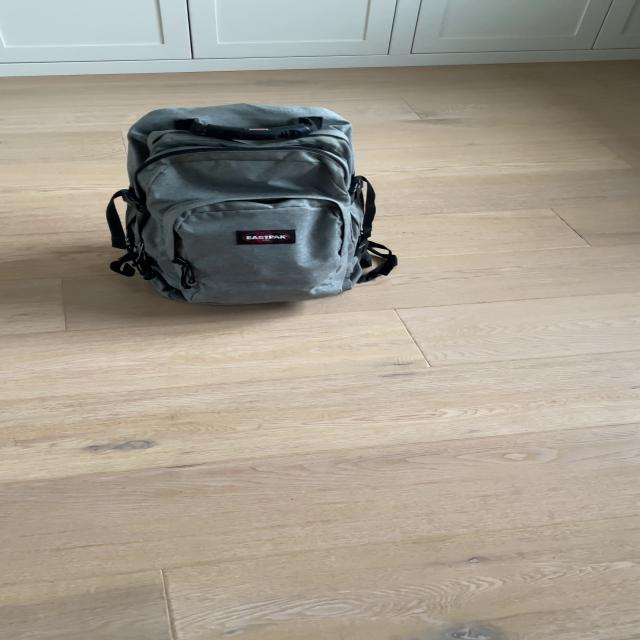backpack: (95, 93, 398, 313)
